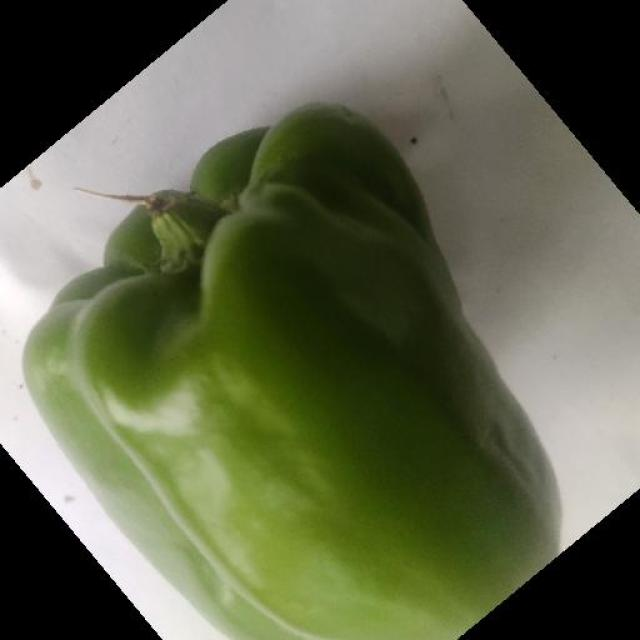Fresh_Capsicum: (18, 202, 590, 615)
